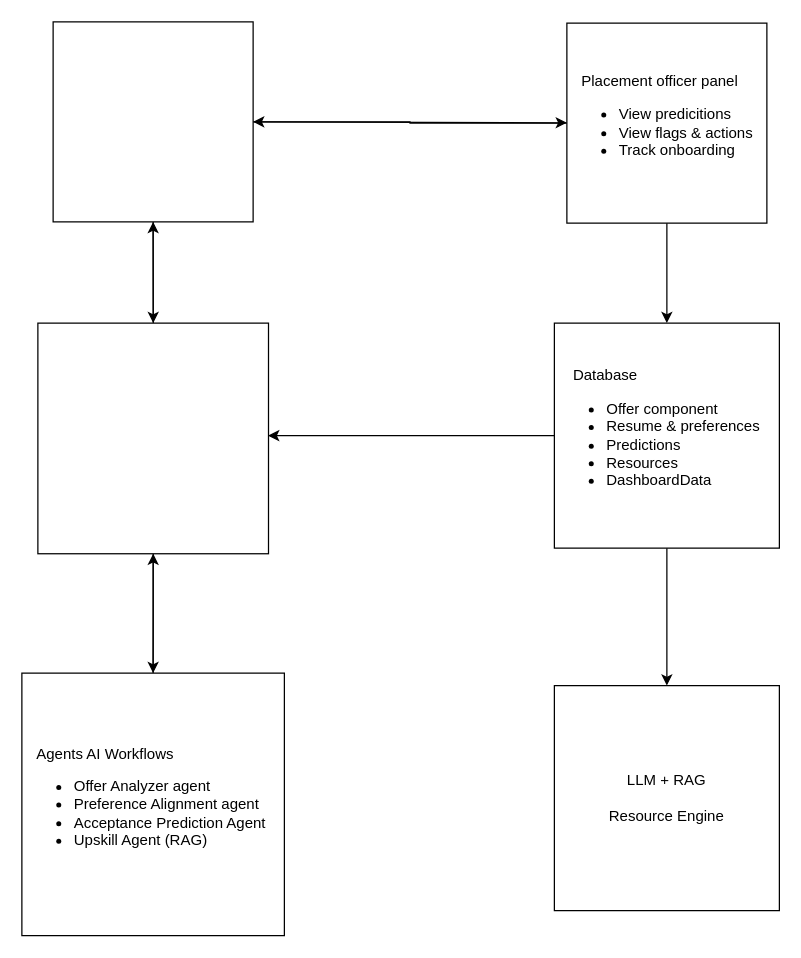
Image size: 801x958. Some labels were removed from this diagram. The shapes that lost their labels are listed below. From the top down, each one's box as (x1, y1, x2, y2) in pixels, then its label:
(52, 21, 253, 222): Frontend Upload offer upload resume view dashboard
(37, 322, 268, 554): Backend Upload handling Agent controllers Api endpoints
